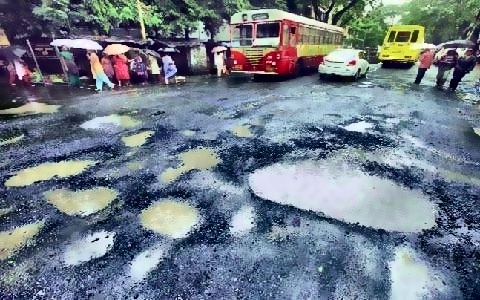pothole: (246, 153, 444, 233), (2, 145, 115, 188), (385, 240, 446, 299), (157, 140, 227, 184), (139, 193, 207, 236), (44, 181, 122, 217), (62, 226, 120, 269), (1, 218, 49, 258), (127, 241, 168, 282), (79, 109, 142, 130), (228, 203, 259, 236), (118, 125, 159, 149), (233, 116, 267, 137), (340, 119, 377, 131)
